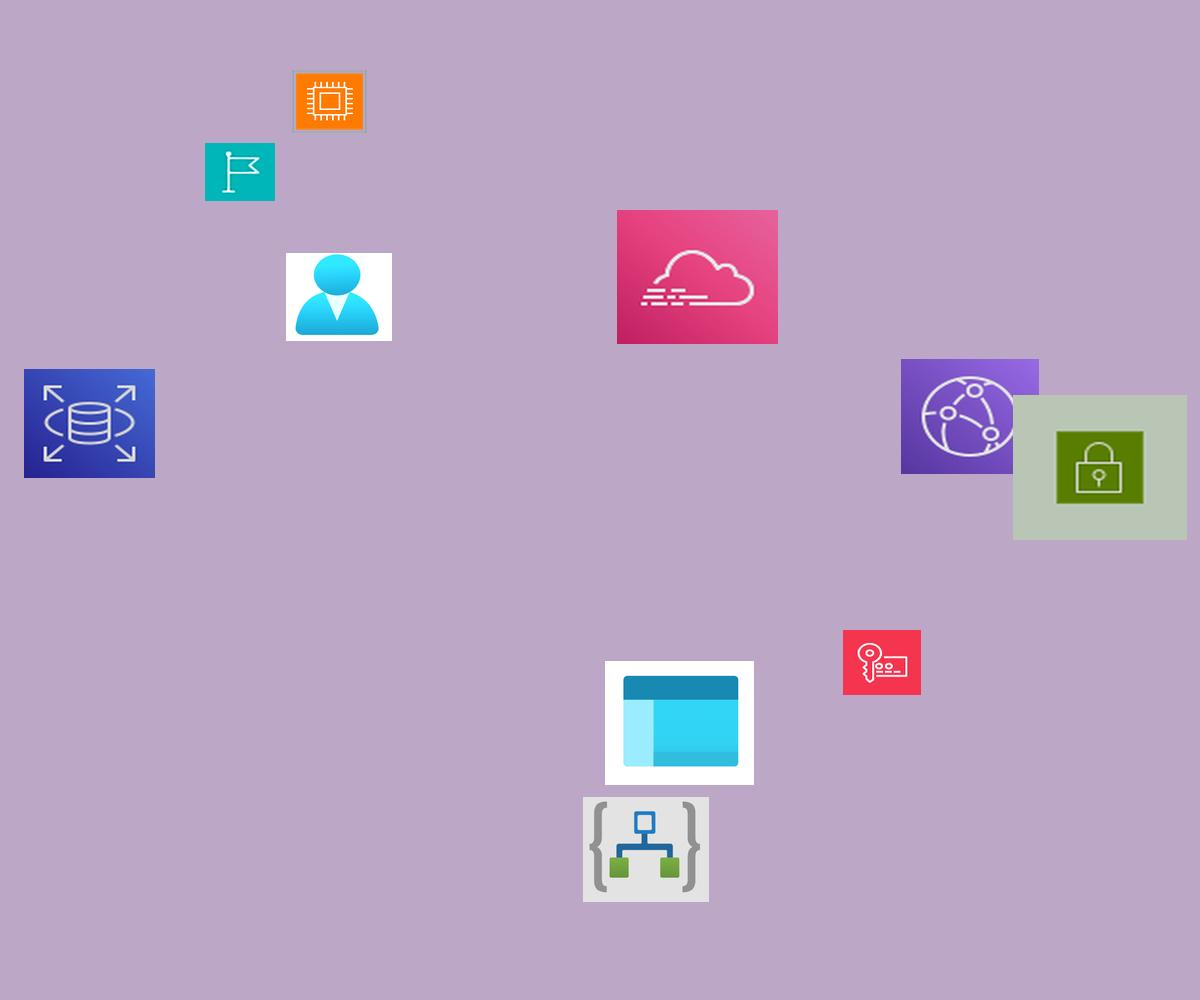AWS-Category_Compute: (292, 70, 367, 133)
AWS-CloudFront: (901, 359, 1039, 474)
AWS-CloudTrail: (617, 210, 778, 344)
AWS-Key-Management-Service: (843, 630, 921, 695)
AWS-Public-subnet: (1013, 395, 1187, 540)
AWS-RDS: (24, 369, 155, 478)
AWS-Region: (205, 143, 275, 201)
Azure_integration-204-Logic-Apps: (583, 797, 709, 902)
Azure_management-portal: (605, 661, 754, 785)
Azure_users: (286, 253, 392, 341)
